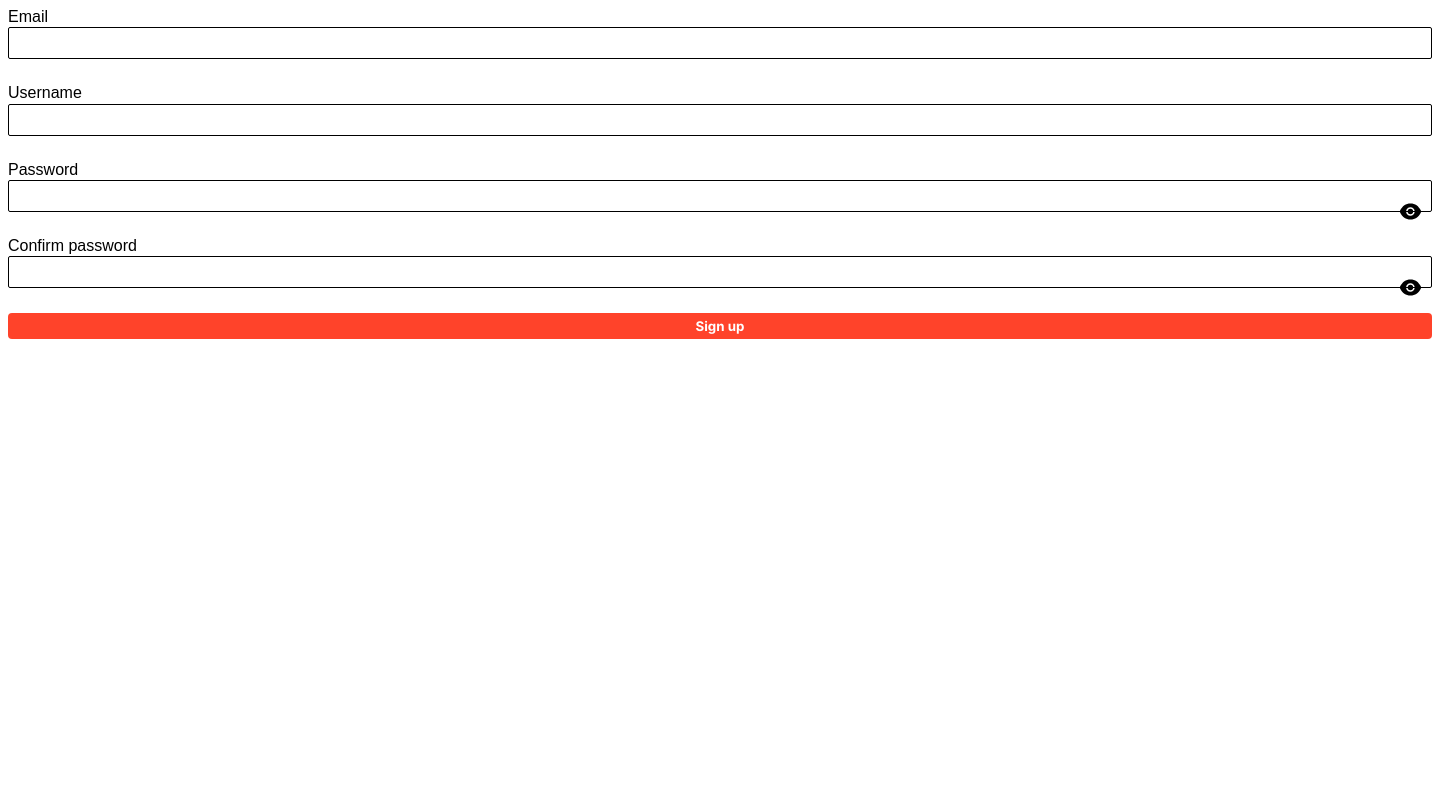
Test case: SingupForm › Should show error banner when the user is already exist
Type "test@example.com" into the field labelled "Email".
click(720, 43); type("test@example.com")  # box [8,27,1432,59]
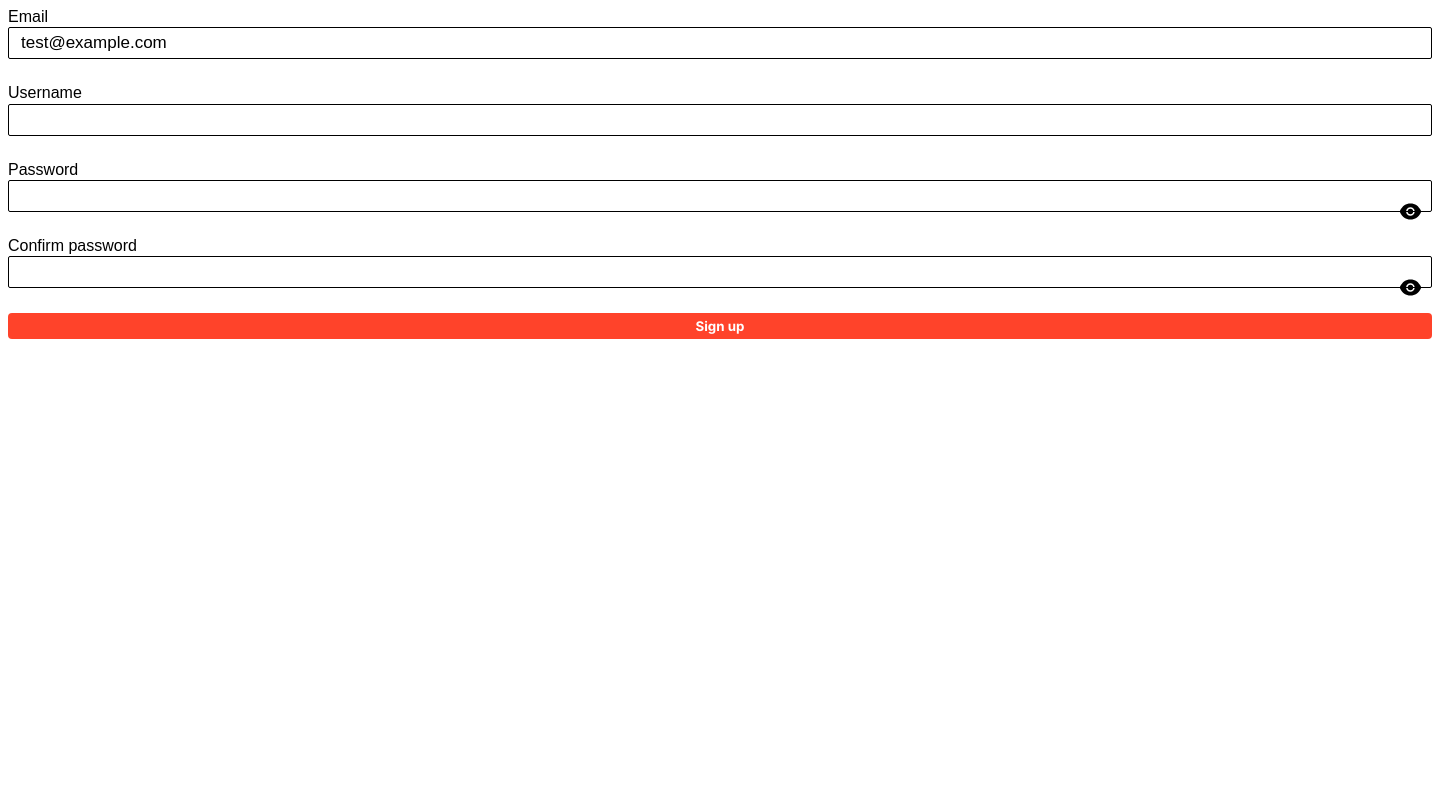
Type "testuser" into the field labelled "Username".
click(720, 120); type("testuser")  # box [8,104,1432,136]
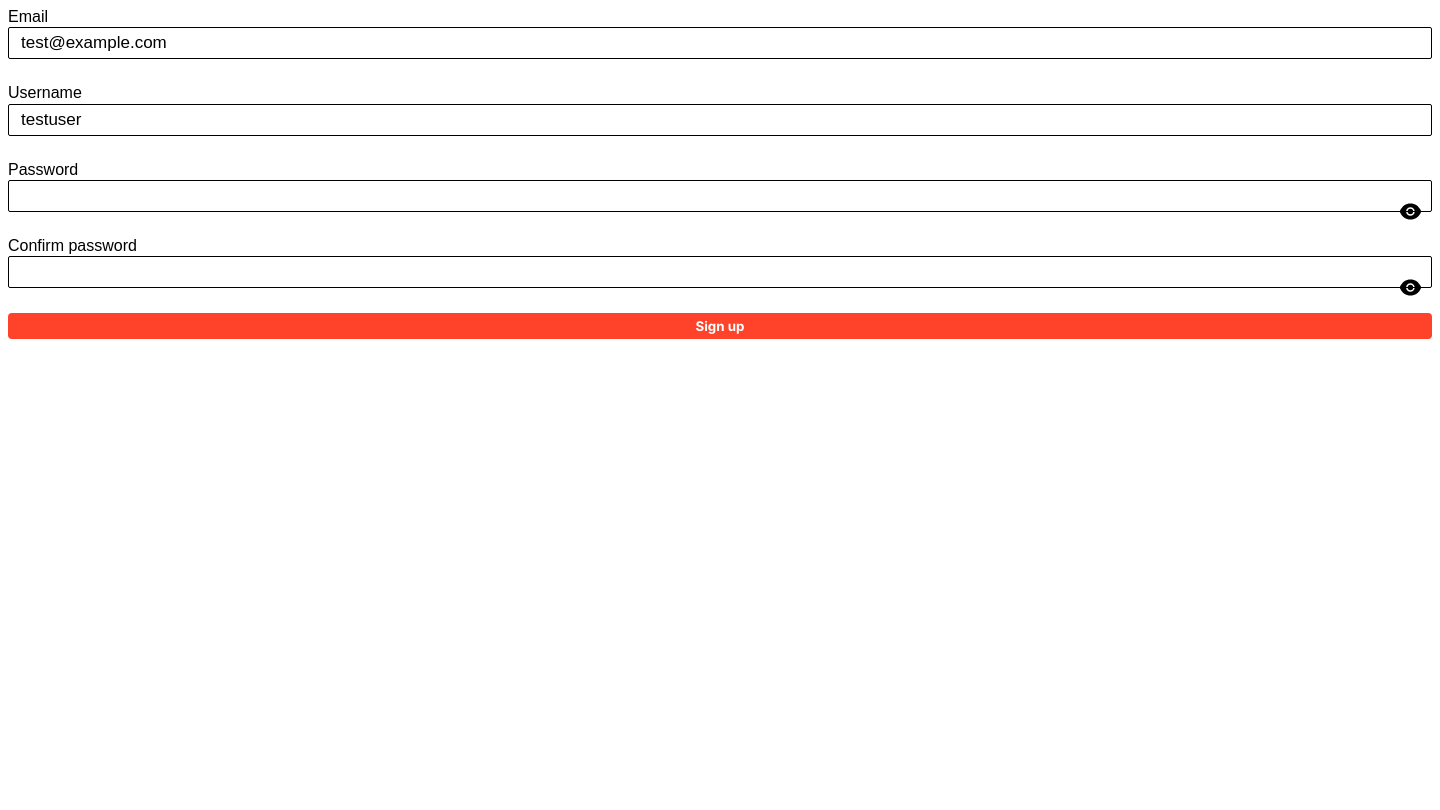
Type "Password_123" into the password field labelled "Password".
click(720, 196); type("Password_123")  # box [8,180,1432,212]
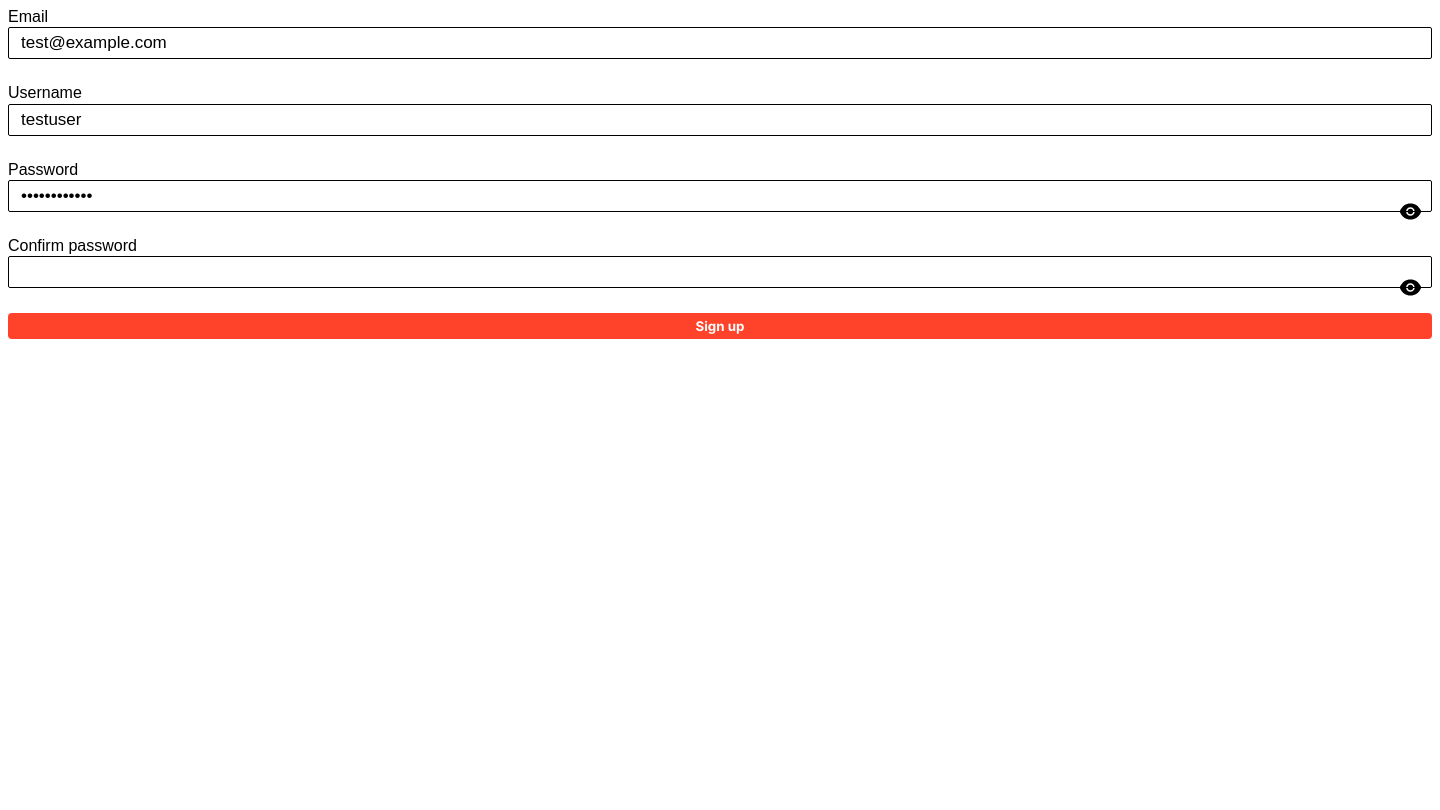
Type "Password_123" into the password field labelled "Confirm password".
click(720, 272); type("Password_123")  # box [8,256,1432,288]
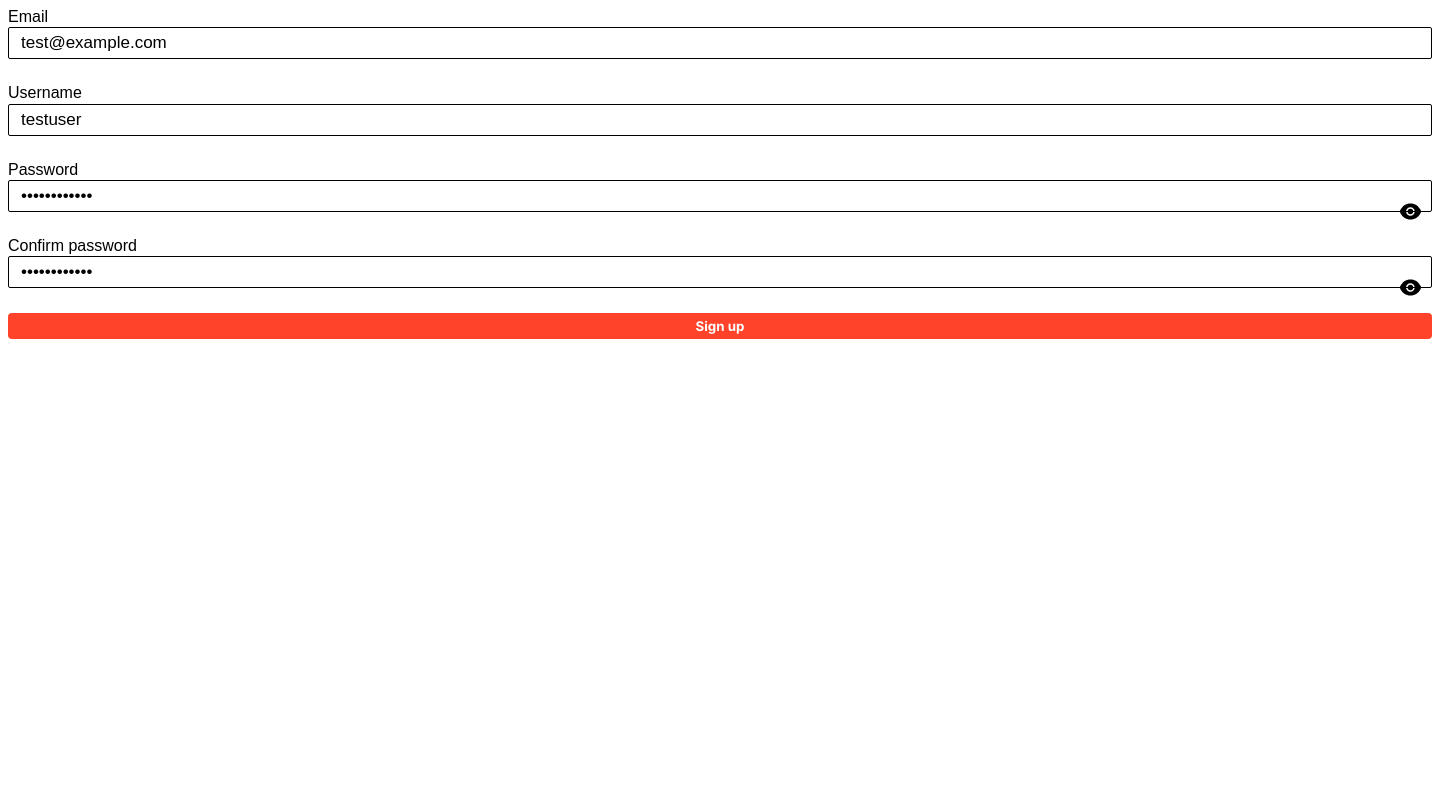
Click the button "Sign up".
click(720, 326)  # box [8,313,1432,339]
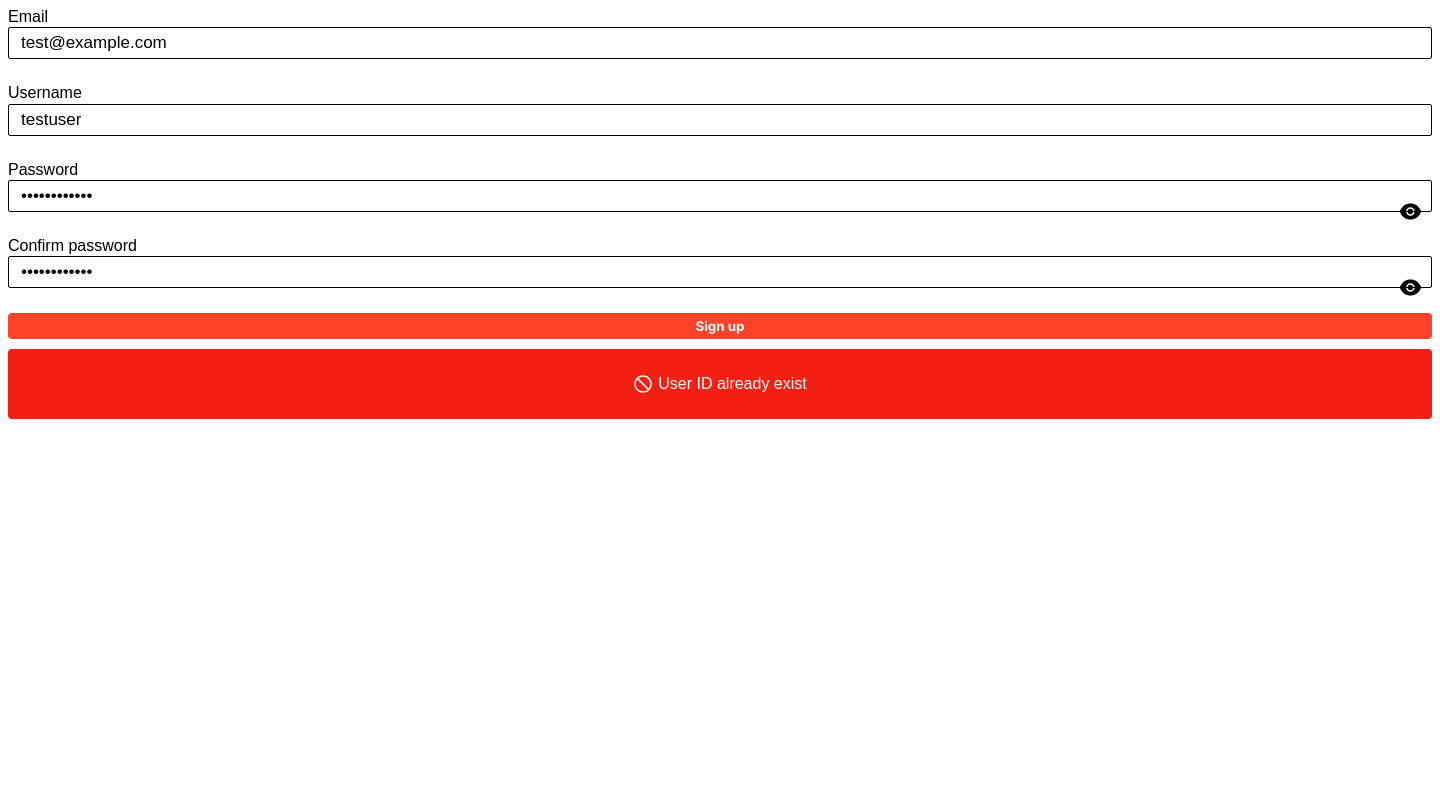
Now the dialog reads "User ID already exist", box [658,375,807,392]
